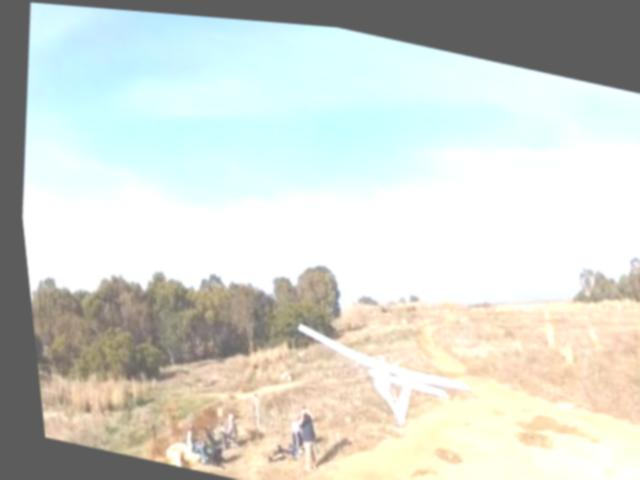uav: (272, 306, 476, 441)
